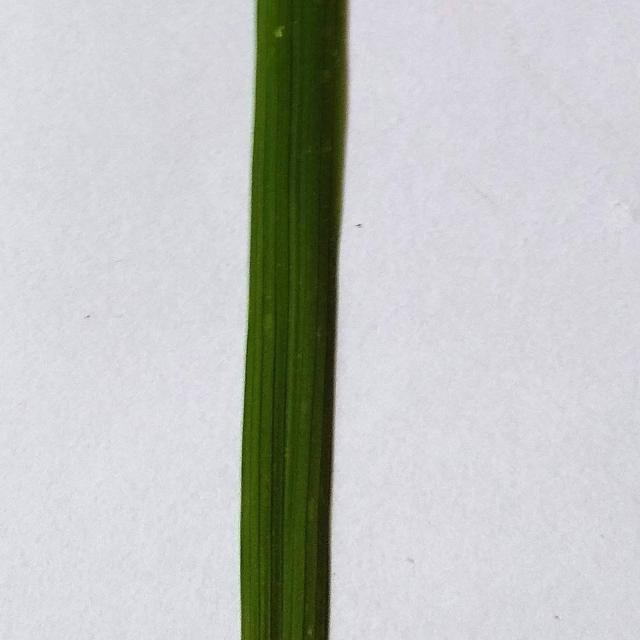healthy: (226, 3, 427, 640)
